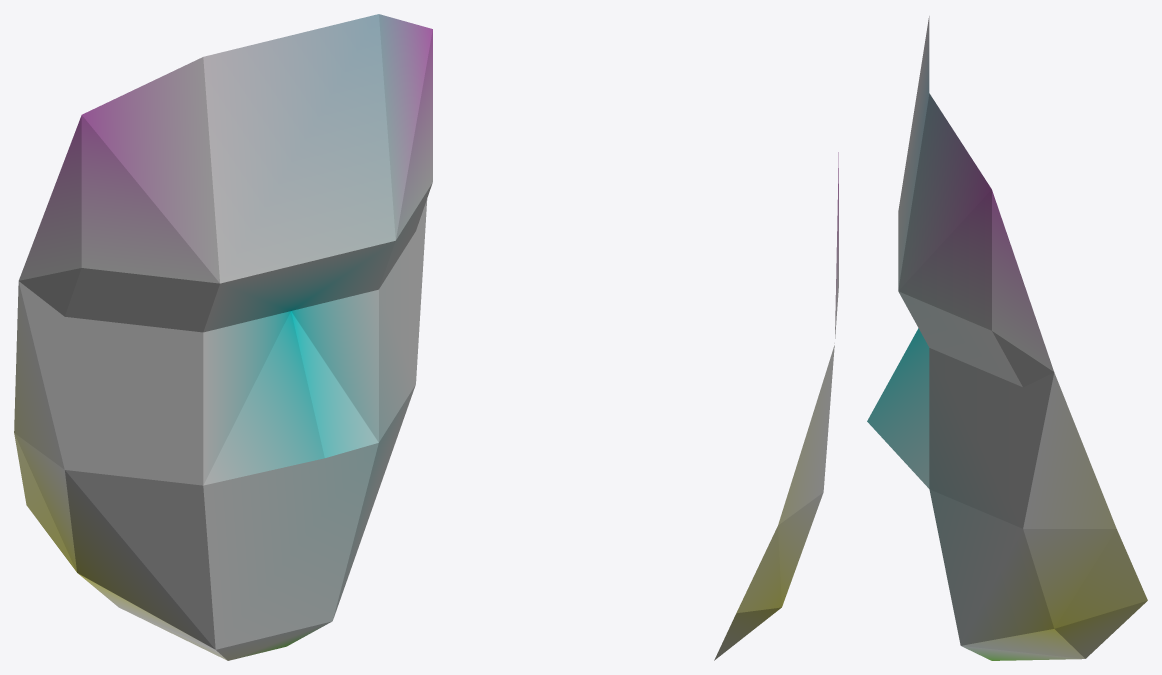
3 views of the same model, side by side, from view 1: azimuth 30°, elevation 25°; view 2: azimuth 150°, elevation 25°; view 3: azimuth 270°, elevation 25° (orthographic). The views are drawn at different scales.
Parts seen in each view (by area): view 1: model_1424; view 2: model_1424; view 3: model_1424.
Part boxes in pixels (x1,y1,x2,y2): model_1424: (14, 14, 432, 660); model_1424: (714, 152, 838, 660); model_1424: (867, 16, 1147, 660).
Bounding box in the file's own units: 14 × 21 × 9.
